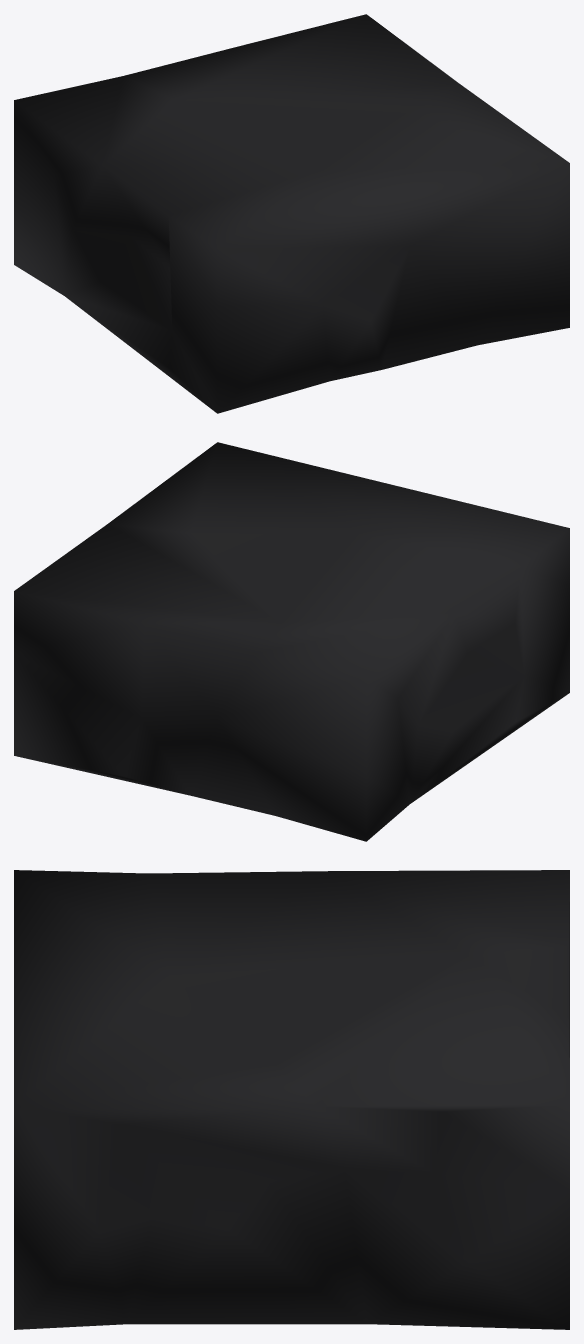
Rendered from underrock_3.glb.
The picture shows the model from 3 angles, top to bottom: view 1: azimuth 30°, elevation 25°; view 2: azimuth 150°, elevation 25°; view 3: azimuth 270°, elevation 25°; orthographic projection. The views are drawn at different scales.
Parts seen in each view (by area): view 1: underrock_3; view 2: underrock_3; view 3: underrock_3.
Part boxes in pixels (x1,y1,x2,y2): underrock_3: (14, 14, 569, 413); underrock_3: (14, 442, 569, 841); underrock_3: (14, 870, 569, 1329).
Size of the model in its own units: 2.8 by 1.25 by 2.8.
1 material, 1 textured.
